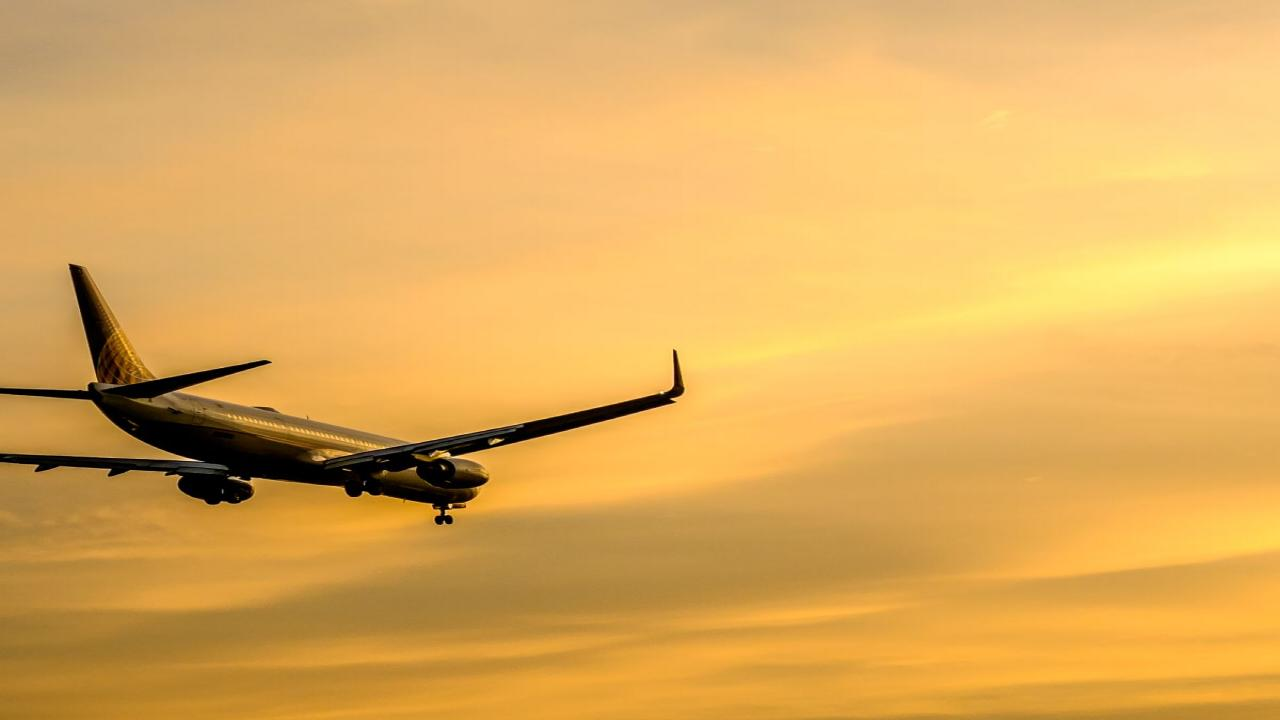Airplane: (0, 250, 702, 536)
